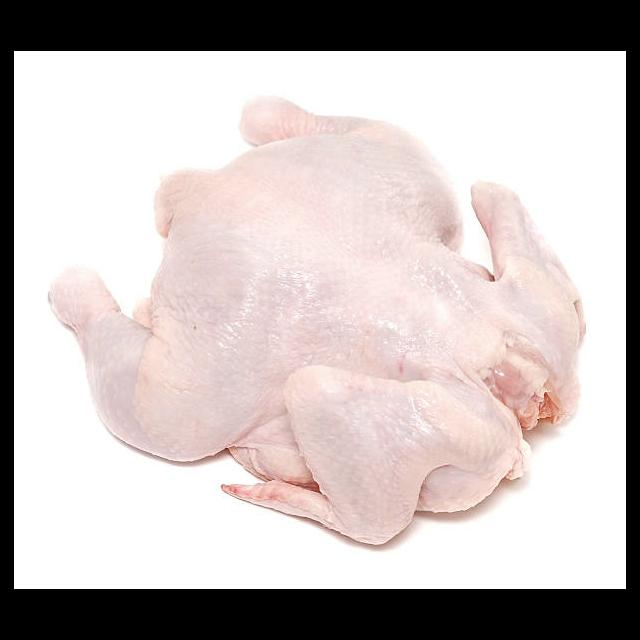chicken: (49, 94, 590, 547)
